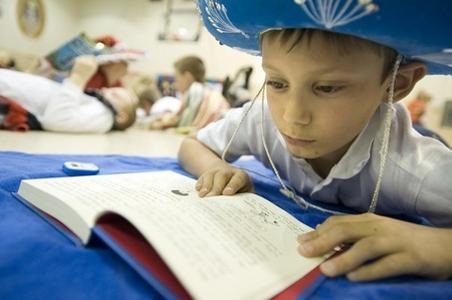person: (180, 2, 452, 283)
